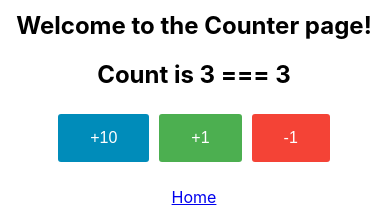
Test case: Counter › decrements by one the counter
Click the button "-1".
click(291, 138)  # box [252,114,330,162]
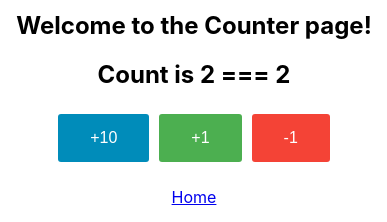
Check: the heading "Count is 2 === 2" is shown, box [98,60,290,89]
